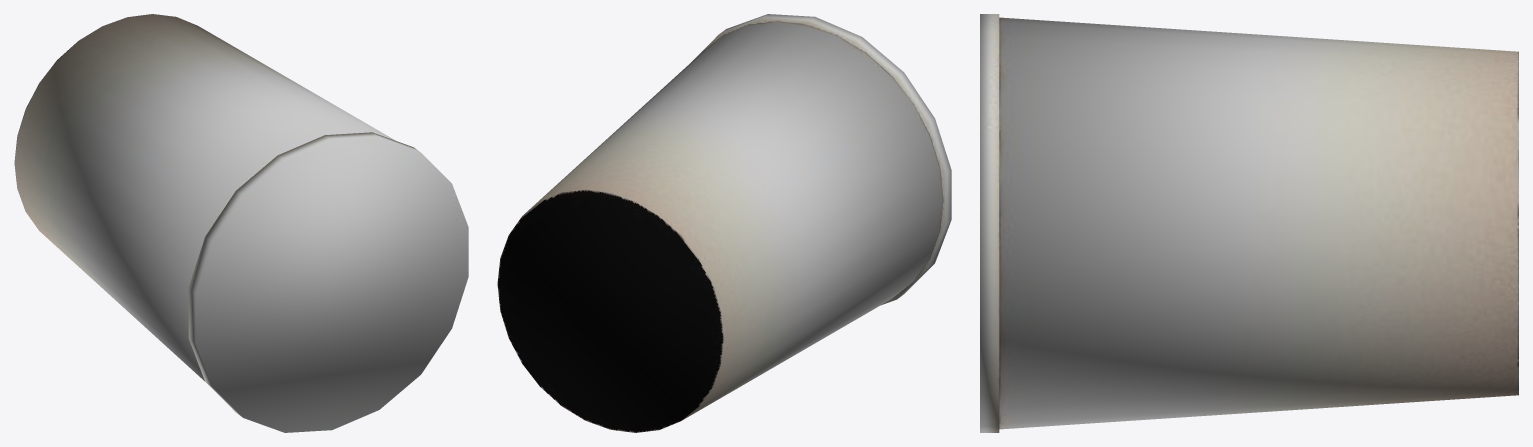
The picture shows the model from 3 angles, left to right: view 1: azimuth 30°, elevation 25°; view 2: azimuth 150°, elevation 25°; view 3: azimuth 270°, elevation 25°; orthographic projection. The views are drawn at different scales.
Visible parts, largest first — view 1: E8_final.001; view 2: E8_final.001; view 3: E8_final.001.
Boxes of the visible parts, bbox=[...] form: E8_final.001: bbox=[14, 14, 468, 432]; E8_final.001: bbox=[497, 14, 951, 432]; E8_final.001: bbox=[980, 14, 1518, 432].
Bounding box in the file's own units: 0.3014 × 0.306 × 0.392.
1 material, 1 textured.
